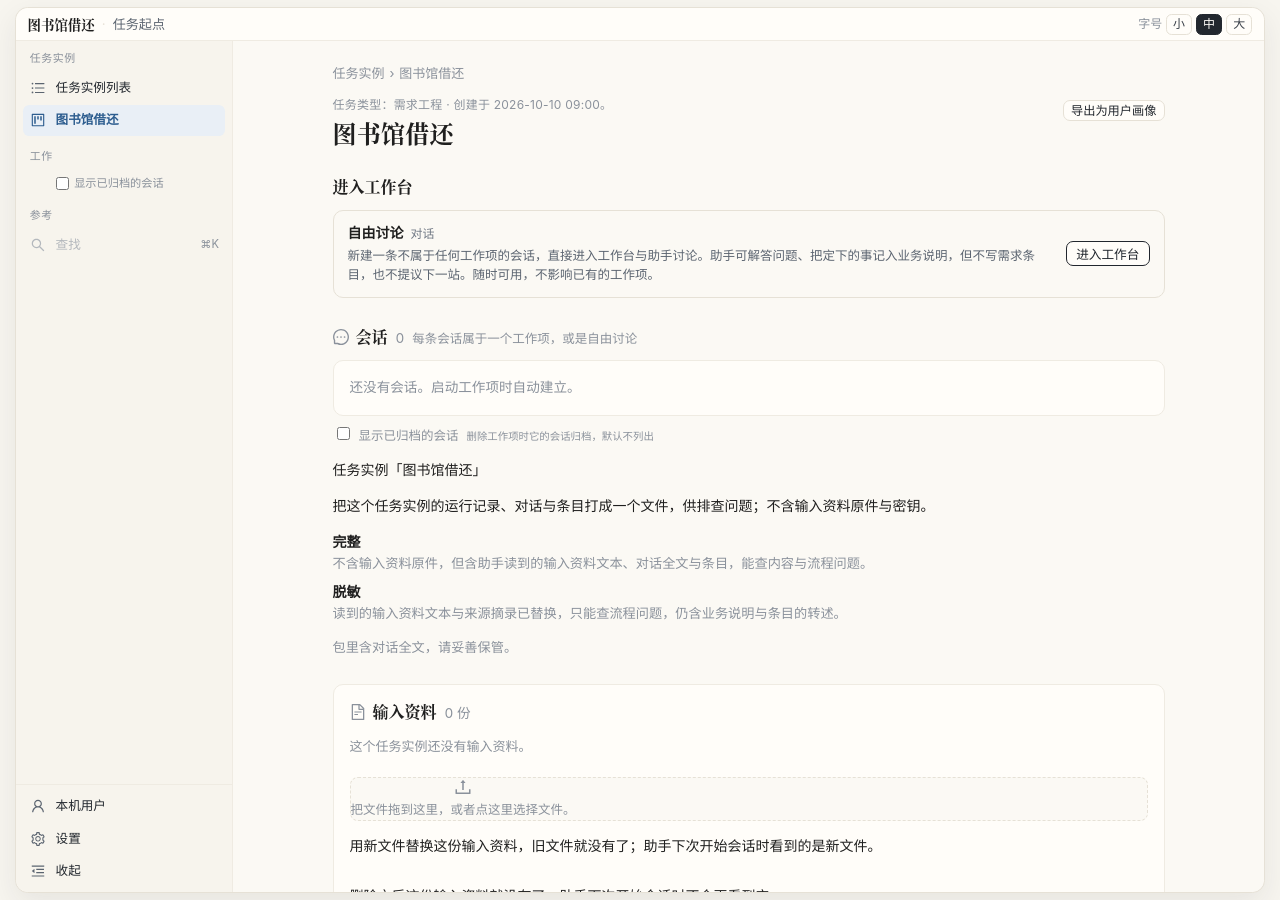
it: 任务页的导出为用户画像 › 服务开着调试模式：有这个按钮；点了把后端整理的草稿存成文件，文件名用后端给的，并说明导出了几条
This screenshot has width=1280, height=900.
Click the button with test id "export-persona" at (1114, 110), box [1063,100,1164,121]
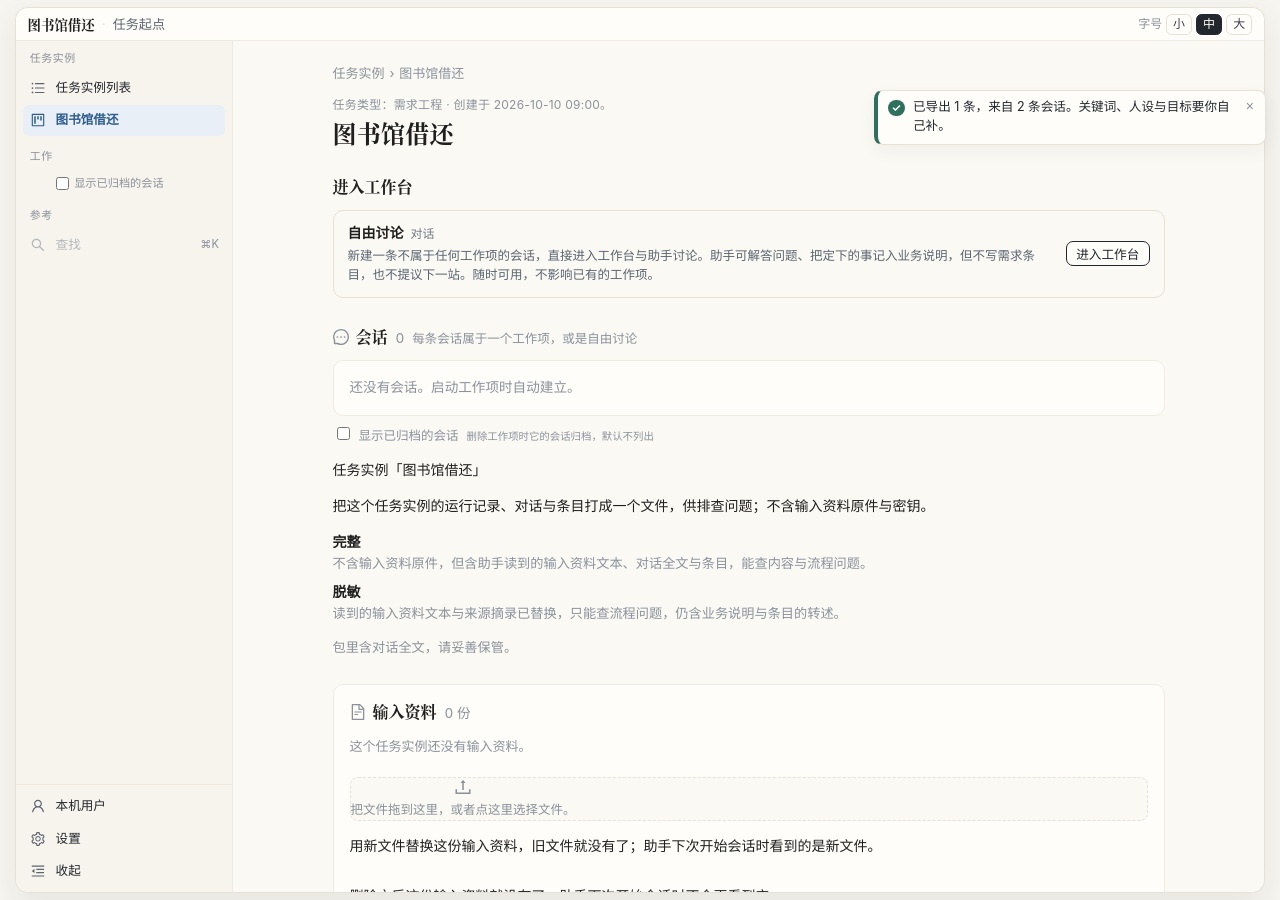
Expected: the text "已导出 1 条，来自 2 条会话。关键词、人设与目标要你自己补。" is shown, [913,99,1230,133]
